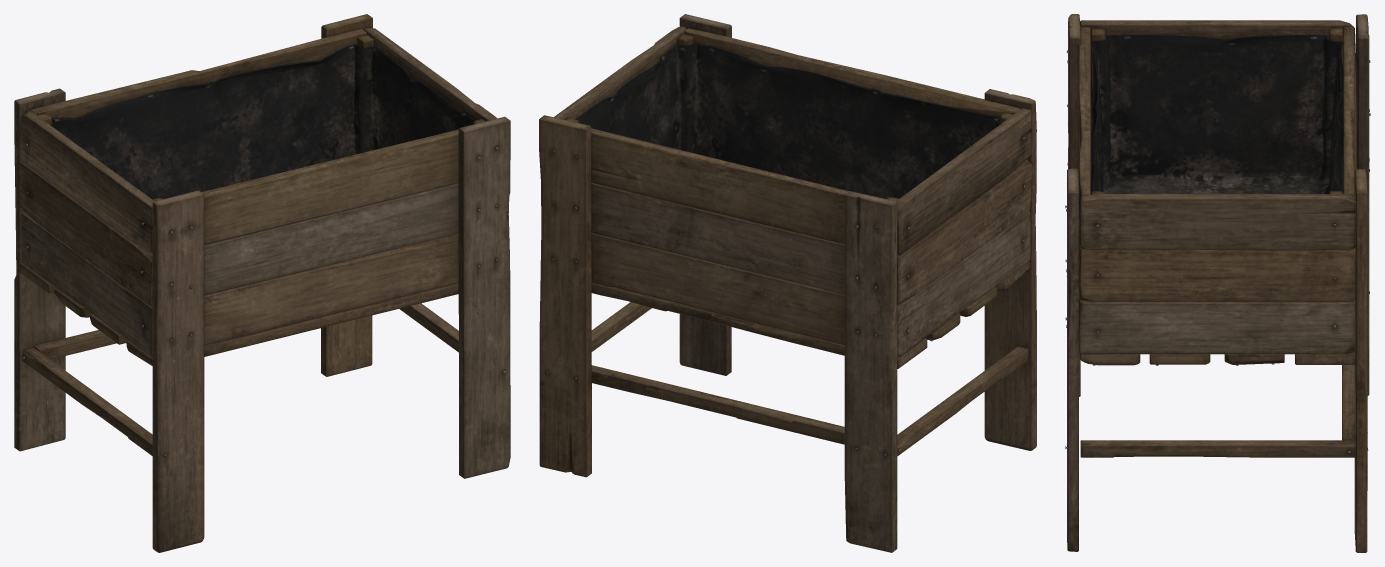
File: planter_box_03.glb
3 views of the same model, side by side, from view 1: azimuth 30°, elevation 25°; view 2: azimuth 150°, elevation 25°; view 3: azimuth 270°, elevation 25° (orthographic). The views are drawn at different scales.
Visible parts, largest first — view 1: planter_box_03; view 2: planter_box_03; view 3: planter_box_03.
Boxes of the visible parts, x1=… form: planter_box_03: x1=14, y1=14, x2=510, y2=552; planter_box_03: x1=539, y1=14, x2=1036, y2=552; planter_box_03: x1=1065, y1=14, x2=1370, y2=552.
Size of the model in its own units: 0.9143 by 0.8552 by 0.6556.
Materials: 1 (1 with a texture image).
